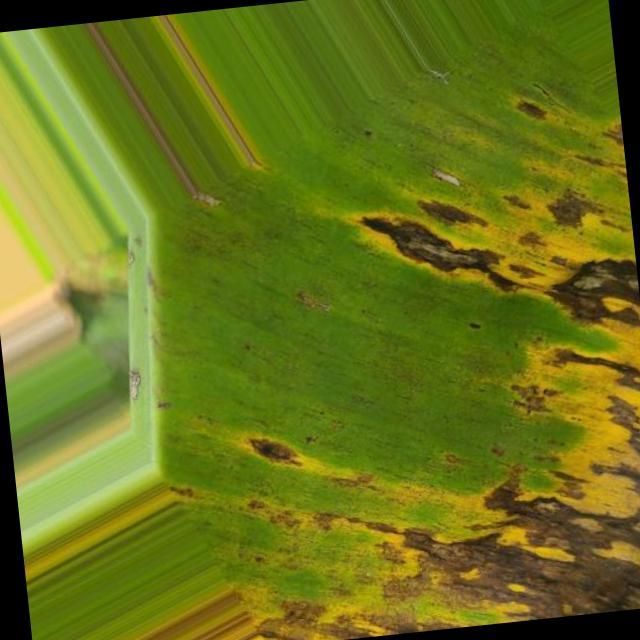Banana_Black_Sigatoka: (355, 82, 640, 632), (133, 388, 457, 640)
